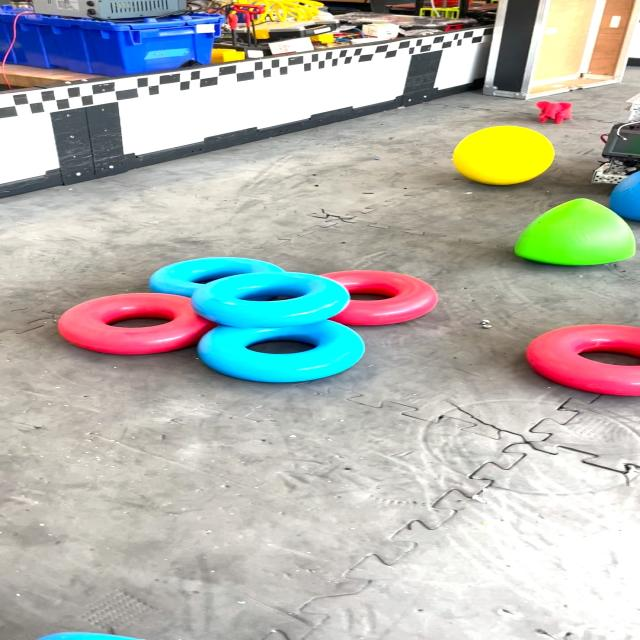Blue-Ring: (198, 320, 364, 382), (191, 272, 349, 328), (149, 258, 284, 296)
Red-Ring: (58, 292, 216, 354), (527, 325, 640, 396), (322, 270, 438, 325)
